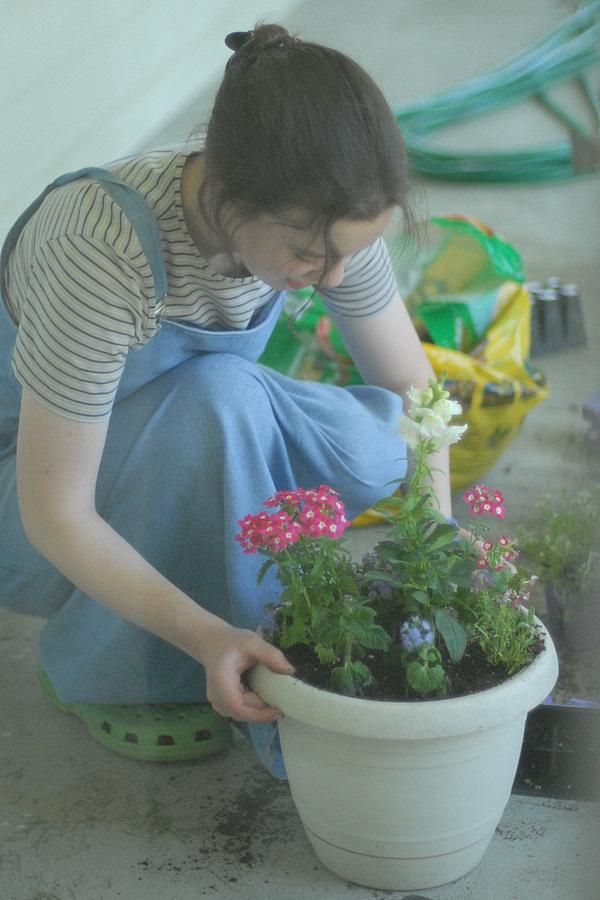person: (1, 23, 453, 786)
